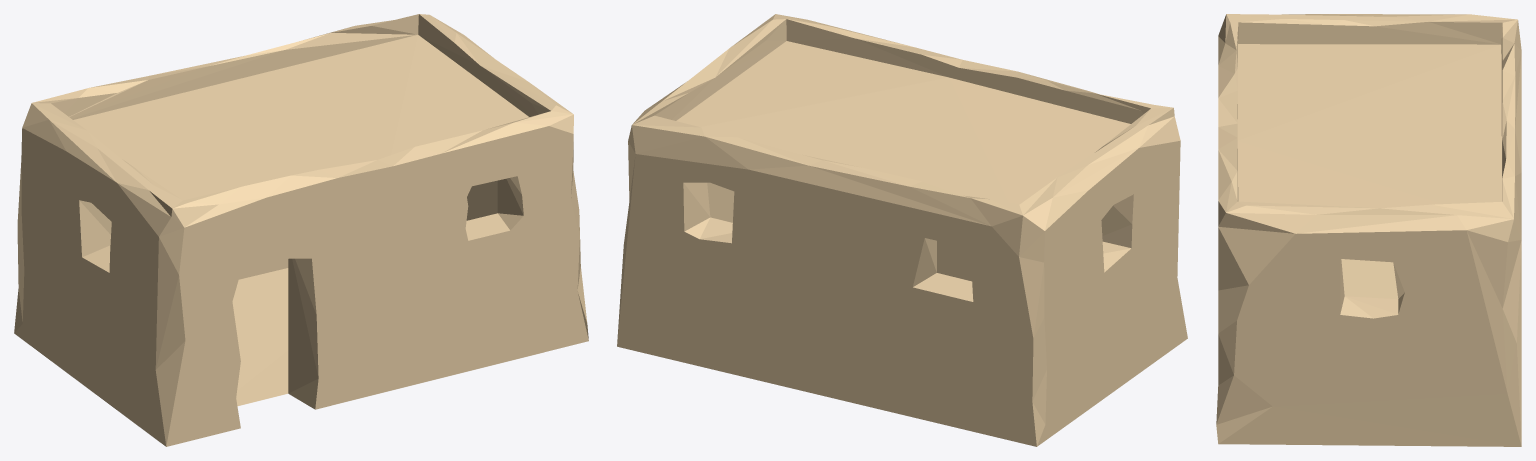
The model's file is House_Block_2_low.fbx.
The picture shows the model from 3 angles, left to right: view 1: azimuth 30°, elevation 25°; view 2: azimuth 150°, elevation 25°; view 3: azimuth 270°, elevation 25°; orthographic projection.
Parts seen in each view (by area): view 1: House_Block_2_low; view 2: House_Block_2_low; view 3: House_Block_2_low.
Boxes of the visible parts, x1,y1,x2,y2 form: House_Block_2_low: (14,14,588,446); House_Block_2_low: (617,14,1187,446); House_Block_2_low: (1216,14,1521,446).
Size of the model in its own units: 6.28 by 3.31 by 3.94.
